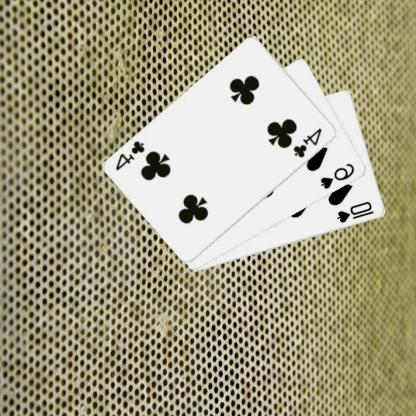10S: (336, 199, 377, 224)
4C: (292, 126, 326, 160), (115, 138, 149, 172)
6S: (320, 160, 358, 190)
